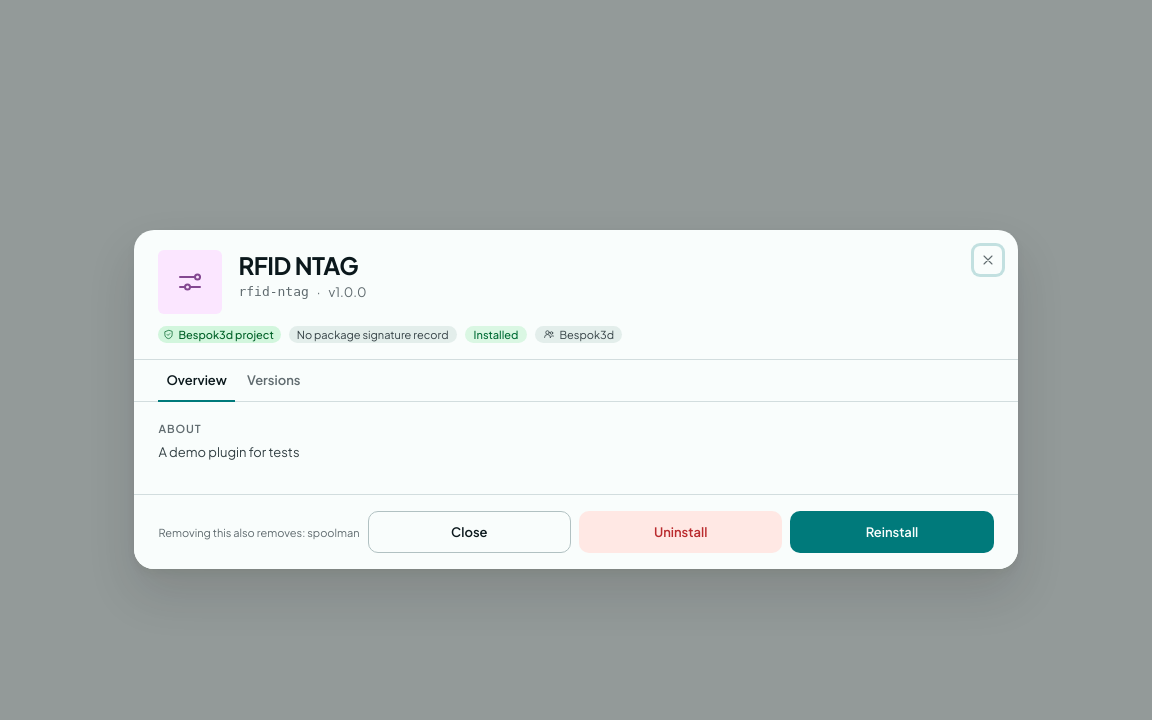
Test case: PluginPanel uninstall + cascade wiring › keeps the plugin when the cascade dialog is cancelled
Click the button "Uninstall".
click(681, 532)  # box top-left (579, 511), bottom-right (782, 553)
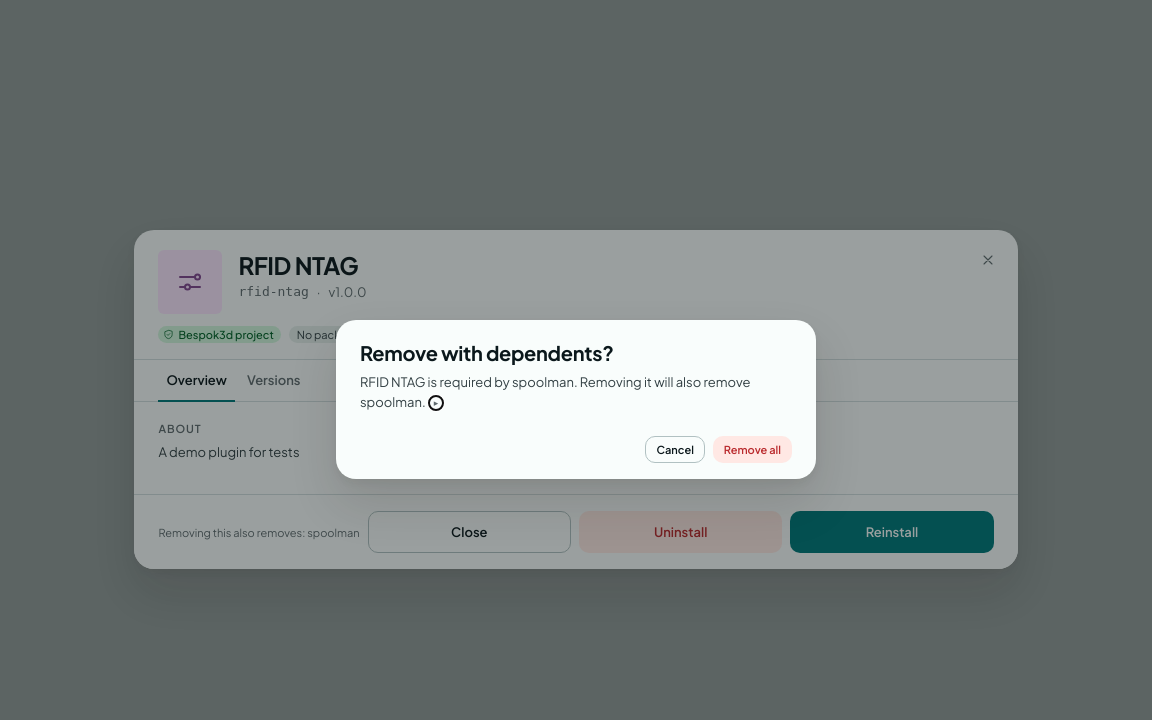
Check: the heading "Remove with dependents?" is shown, box top-left (360, 340), bottom-right (614, 365)
Click the button "Cancel".
click(675, 450)  # box top-left (646, 436), bottom-right (705, 463)
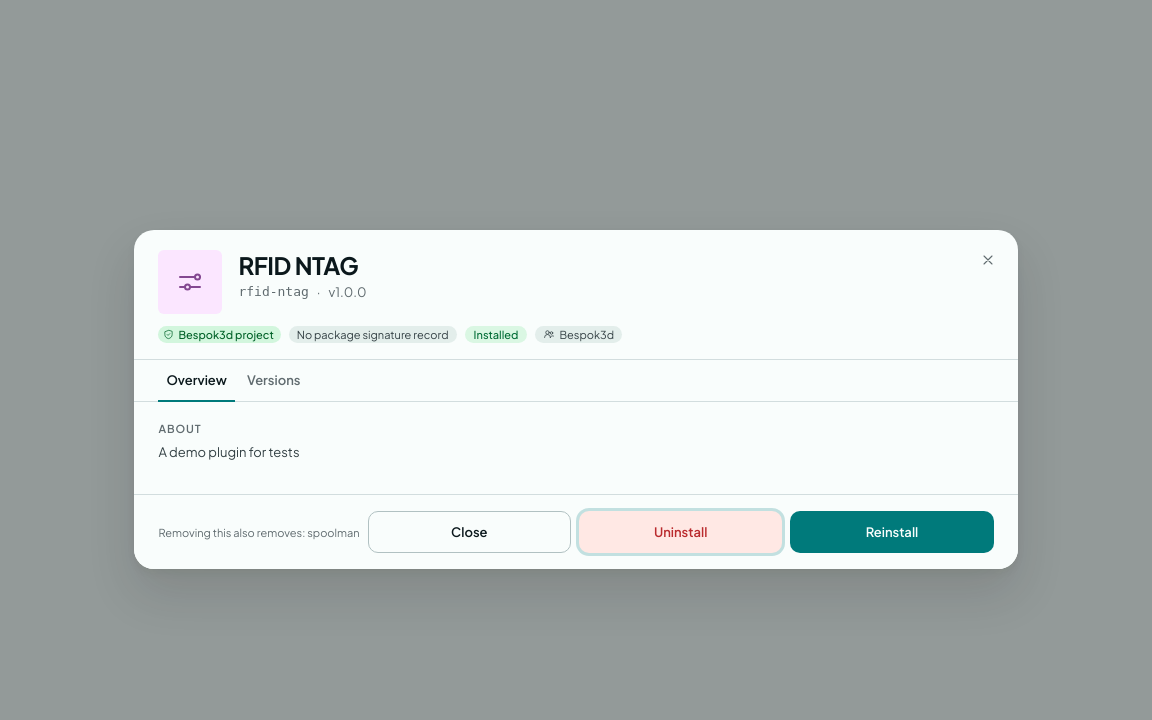
Check: the heading "Remove with dependents?" is gone
